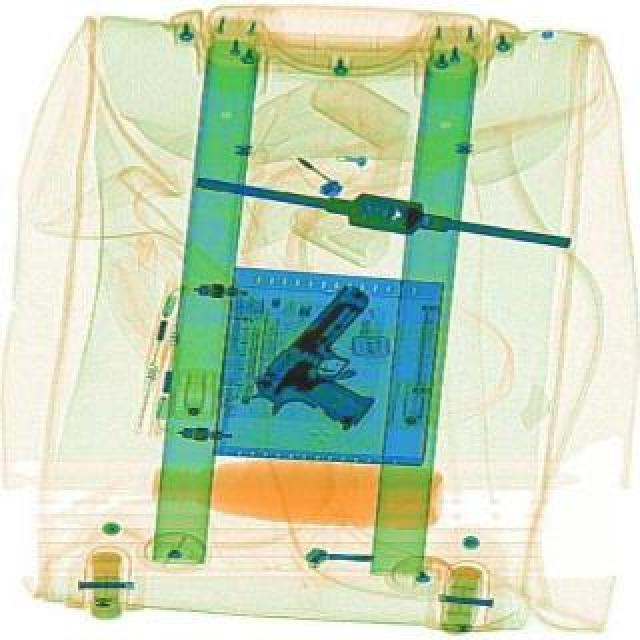gun: (240, 276, 430, 456)
